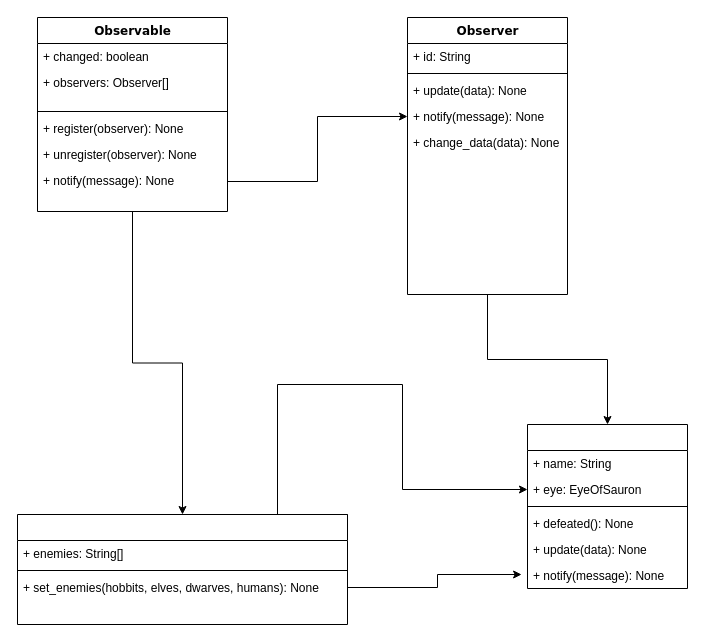
The diagram is 705 pixels wide and 642 high, and some of its shapes have lost their labels. Each missing label, with the box of its shape:
BadGuy: (526, 424, 688, 588)
EyeOfSauron: (16, 514, 348, 624)
